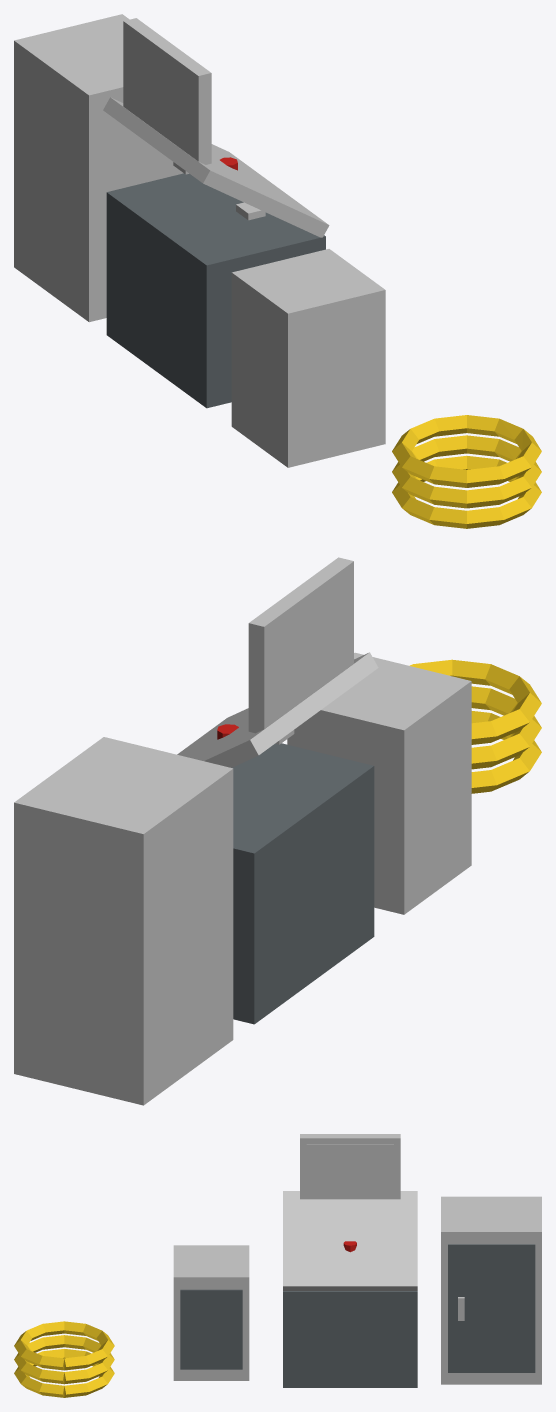
Rendered from body.obj.
3 renders of one model, top to bottom at view 1: azimuth 30°, elevation 25°; view 2: azimuth 150°, elevation 25°; view 3: azimuth 270°, elevation 25°, orthographic. The views are drawn at different scales.
Size of the model in its own units: 0.7654 by 1.42 by 3.14.
